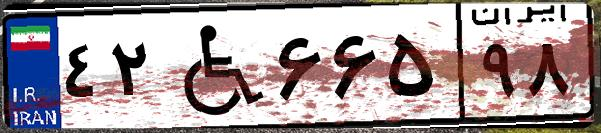2: (110, 28, 158, 98)
4: (57, 26, 110, 100)
5: (385, 28, 445, 110)
6: (270, 28, 330, 110), (330, 28, 385, 110)
8: (525, 38, 570, 115)
9: (475, 38, 525, 113)
ژ (معلولین و جانبازان): (158, 12, 270, 120)
